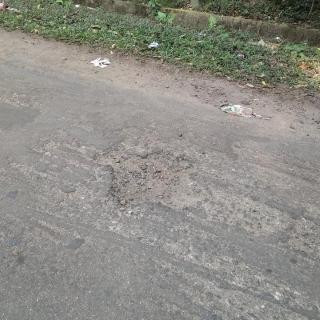pothole: (109, 150, 207, 213)
